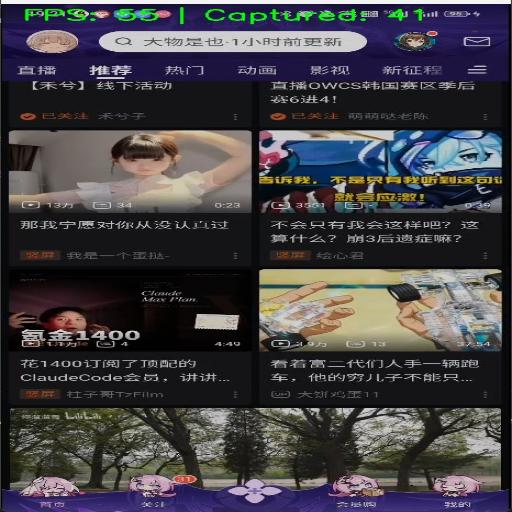butten: (256, 130, 503, 264), (259, 266, 493, 404), (6, 280, 258, 405), (19, 132, 251, 265), (156, 54, 222, 79), (80, 60, 141, 80), (13, 57, 67, 79), (378, 62, 448, 77), (234, 62, 291, 79), (302, 64, 360, 80)
input: (102, 31, 370, 49)
